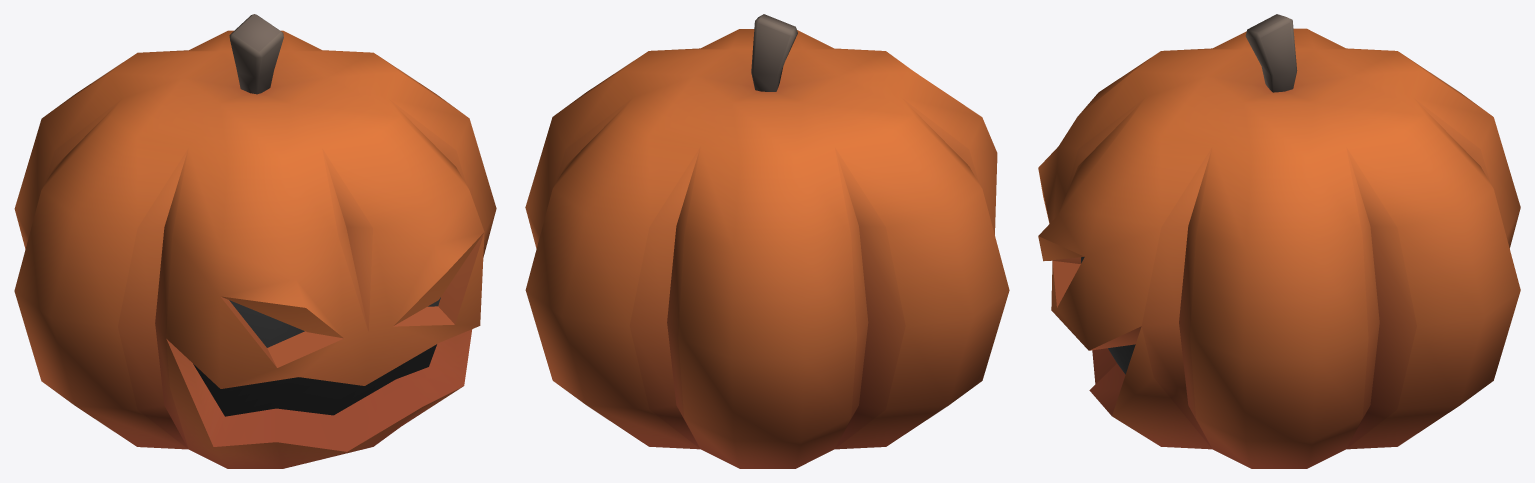
Rendered from pumpkin_orange_jackolantern.glb.
3 views of the same model, side by side, from view 1: azimuth 30°, elevation 25°; view 2: azimuth 150°, elevation 25°; view 3: azimuth 270°, elevation 25° (orthographic).
Parts seen in each view (by area): view 1: pumpkin_orange_jackolantern; view 2: pumpkin_orange_jackolantern; view 3: pumpkin_orange_jackolantern.
Boxes of the visible parts, bbox=[...] form: pumpkin_orange_jackolantern: bbox=[14, 14, 496, 468]; pumpkin_orange_jackolantern: bbox=[525, 14, 1009, 468]; pumpkin_orange_jackolantern: bbox=[1038, 14, 1520, 468].
Bounding box in the file's own units: 1.5 × 1.3 × 1.4.
Materials: 1 (1 with a texture image).
